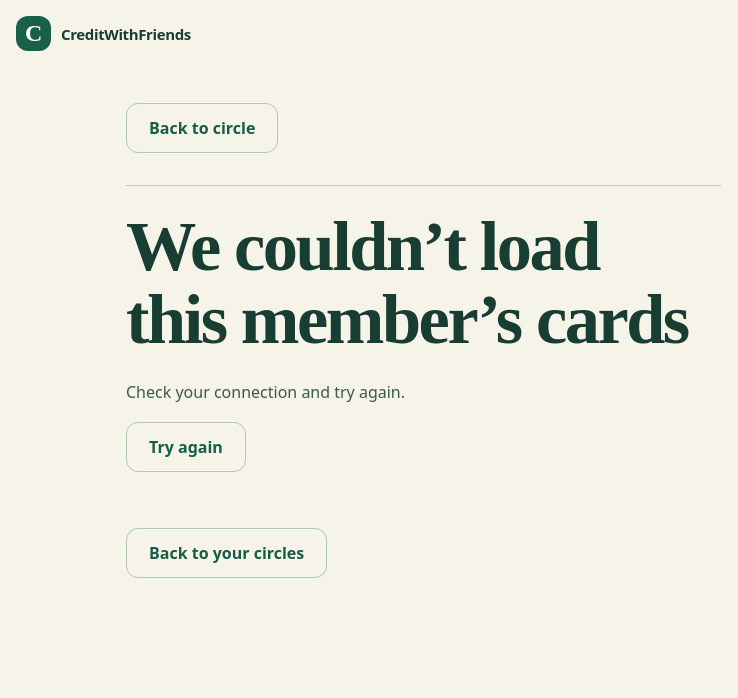
Test: done-when-4: retry stays disabled during a slow request and then recovers
This screenshot has width=738, height=698.
Expected: the message shows "Check your connection and try again.", [126,381,405,403]
Click the button "Try again".
click(186, 447)  # box [126,422,246,472]
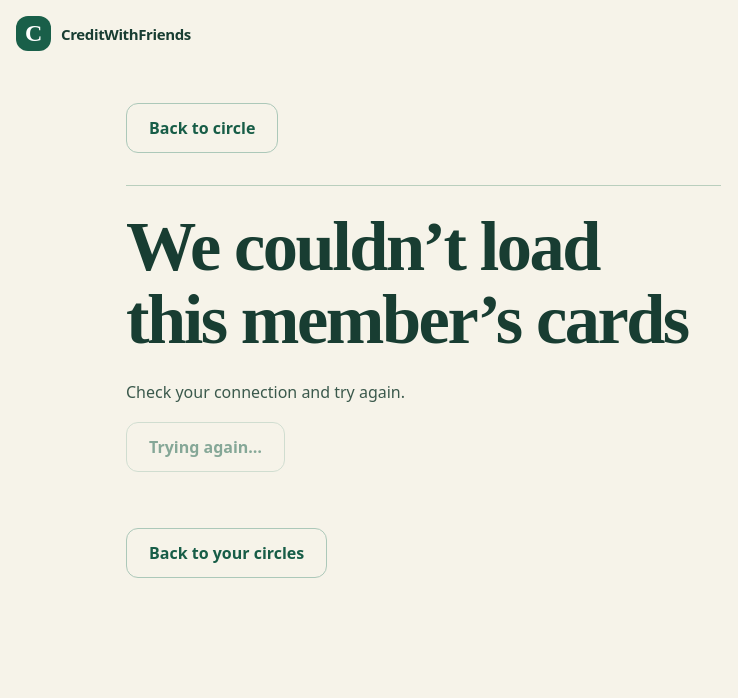
Expected: the button "Trying again…" is disabled
Click the button "Trying again…".
click(206, 447)  # box [126,422,285,472]
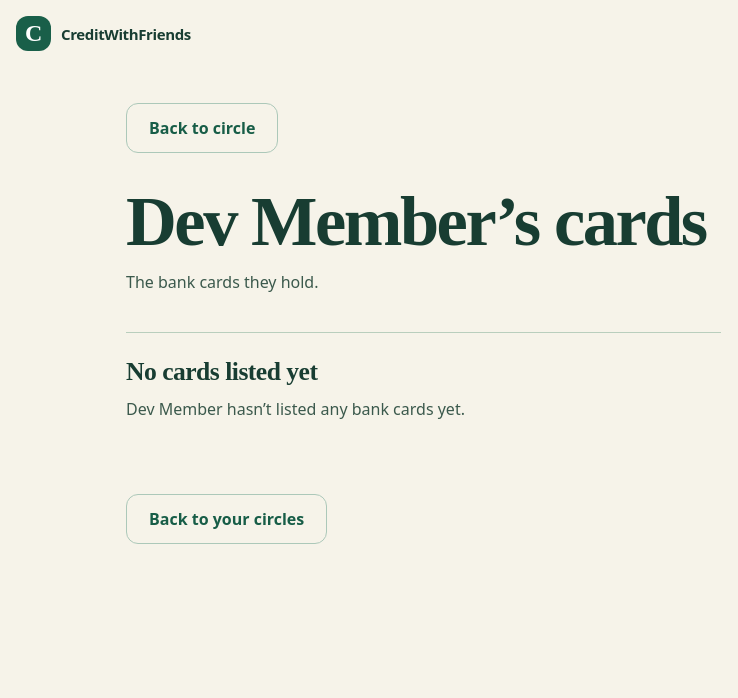
Expected: the heading "No cards listed yet" is shown, [126,357,317,386]
Expected: the message is gone
